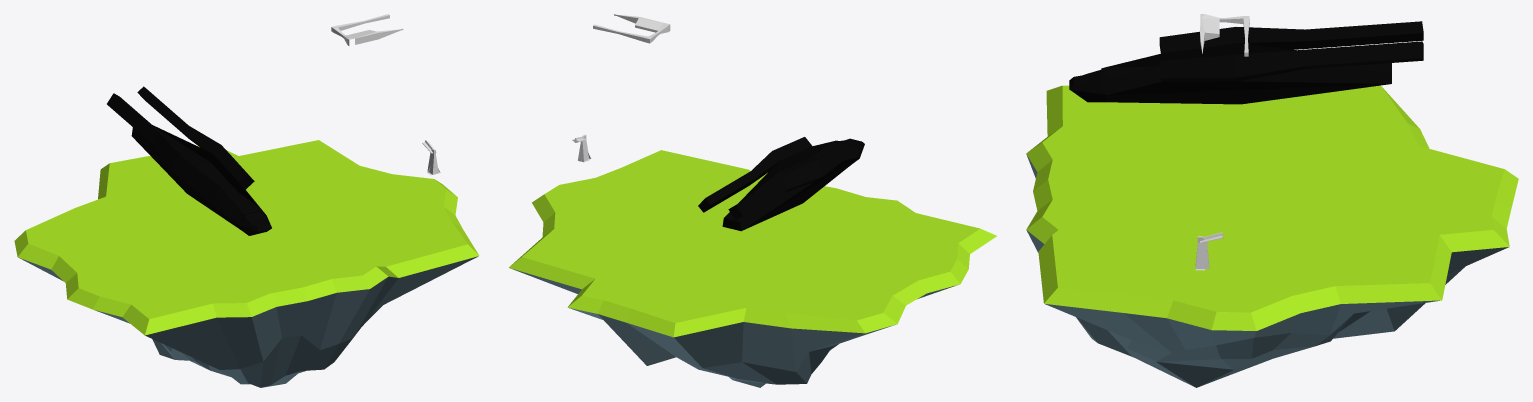
File: spaceship1.glb
The picture shows the model from 3 angles, left to right: view 1: azimuth 30°, elevation 25°; view 2: azimuth 150°, elevation 25°; view 3: azimuth 270°, elevation 25°; orthographic projection. The views are drawn at different scales.
Visible parts, largest first — view 1: Cone, spaceship_1, spaceship_2; view 2: Cone, spaceship_1, spaceship_2; view 3: Cone, spaceship_1, spaceship_2, stolp_1.
Boxes of the visible parts, left/top/right/bottom form: Cone: left=14, top=140, right=479, bottom=387; spaceship_1: left=107, top=86, right=271, bottom=235; spaceship_2: left=331, top=14, right=403, bottom=45; Cone: left=508, top=150, right=996, bottom=387; spaceship_1: left=698, top=137, right=864, bottom=231; spaceship_2: left=593, top=14, right=670, bottom=43; Cone: left=1026, top=85, right=1518, bottom=387; spaceship_1: left=1069, top=21, right=1423, bottom=104; spaceship_2: left=1200, top=14, right=1249, bottom=56; stolp_1: left=1195, top=232, right=1223, bottom=270.
Bounding box in the file's own units: 129 × 101 × 106.
Materials: 2 (2 with a texture image).
